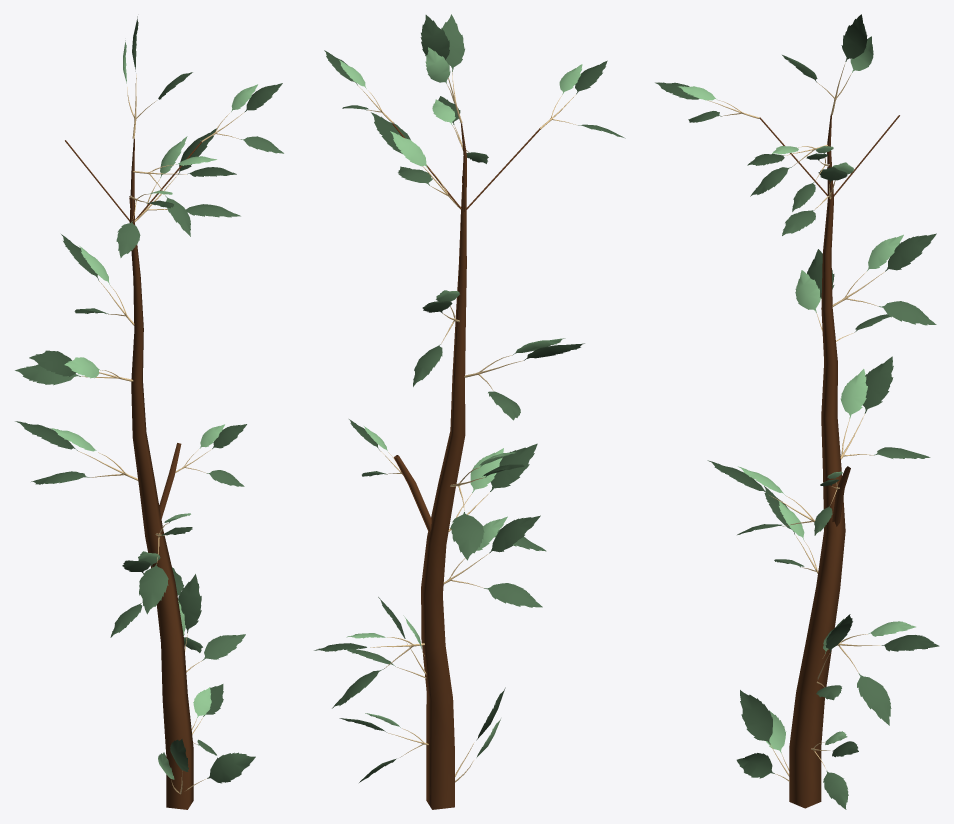
File: Tree17.fbx
The picture shows the model from 3 angles, left to right: view 1: azimuth 30°, elevation 25°; view 2: azimuth 150°, elevation 25°; view 3: azimuth 270°, elevation 25°; orthographic projection. The views are drawn at different scales.
Visible parts, largest first — view 1: Árbol.002, Hojas|tree|Dupli|4, Hojas|tree|Dupli|6, Hojas|tree|Dupli|7, Hojas|tree|Dupli|5, Hojas|tree|Dupli|, Hojas|tree|Dupli|3, Hojas|tree|Dupli|13, Hojas|tree|Dupli|14, Hojas|tree|Dupli|1, Hojas|tree|Dupli|9, Hojas|tree|Dupli|8 (+3 smaller); view 2: Árbol.002, Hojas|tree|Dupli|8, Hojas|tree|Dupli|2, Hojas|tree|Dupli|13, Hojas|tree|Dupli|, Hojas|tree|Dupli|5, Hojas|tree|Dupli|4, Hojas|tree|Dupli|9, Hojas|tree|Dupli|12, Hojas|tree|Dupli|10, Hojas|tree|Dupli|14, Hojas|tree|Dupli|3 (+2 smaller); view 3: Árbol.002, Hojas|tree|Dupli|9, Hojas|tree|Dupli|5, Hojas|tree|Dupli|7, Hojas|tree|Dupli|10, Hojas|tree|Dupli|2, Hojas|tree|Dupli|4, Hojas|tree|Dupli|11, Hojas|tree|Dupli|13, Hojas|tree|Dupli|14, Hojas|tree|Dupli|, Hojas|tree|Dupli|12 (+3 smaller).
Boxes of the visible parts, x1,y1,x2,y2 form: Árbol.002: (65,138,202,809); Hojas|tree|Dupli|4: (15,350,133,385); Hojas|tree|Dupli|6: (178,574,245,672); Hojas|tree|Dupli|7: (158,739,255,794); Hojas|tree|Dupli|5: (15,421,138,484); Hojas|tree|Dupli|: (134,128,240,222); Hojas|tree|Dupli|3: (202,83,283,153); Hojas|tree|Dupli|13: (139,513,192,614); Hojas|tree|Dupli|14: (133,156,236,236); Hojas|tree|Dupli|1: (175,424,246,486); Hojas|tree|Dupli|9: (61,234,134,325); Hojas|tree|Dupli|8: (110,551,160,637); Árbol.002: (392,123,540,809); Hojas|tree|Dupli|8: (443,515,542,607); Hojas|tree|Dupli|2: (420,14,464,122); Hojas|tree|Dupli|13: (448,443,546,551); Hojas|tree|Dupli|: (371,112,460,208); Hojas|tree|Dupli|5: (450,452,524,560); Hojas|tree|Dupli|4: (464,338,584,420); Hojas|tree|Dupli|9: (413,290,459,386); Hojas|tree|Dupli|12: (540,60,625,138); Hojas|tree|Dupli|10: (314,633,424,708); Hojas|tree|Dupli|14: (432,96,488,163); Hojas|tree|Dupli|3: (324,50,393,123); Árbol.002: (759,115,899,808); Hojas|tree|Dupli|9: (832,233,936,325); Hojas|tree|Dupli|5: (840,356,930,459); Hojas|tree|Dupli|7: (736,690,789,781); Hojas|tree|Dupli|10: (837,621,939,725); Hojas|tree|Dupli|2: (782,14,873,114); Hojas|tree|Dupli|4: (795,249,889,341); Hojas|tree|Dupli|11: (811,731,858,809); Hojas|tree|Dupli|13: (707,460,815,534); Hojas|tree|Dupli|14: (747,144,827,196); Hojas|tree|Dupli|: (782,162,853,235); Hojas|tree|Dupli|12: (655,82,759,122).
Bounding box in the file's own units: 166 × 486 × 161.
